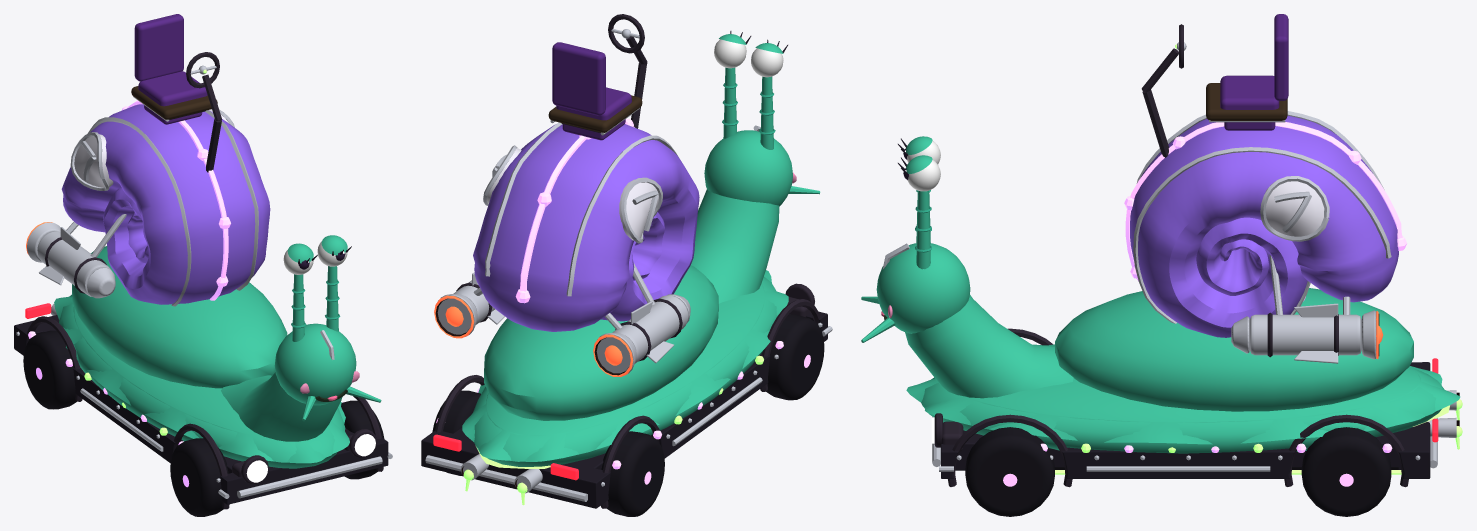
The model's file is turbo_escargot.glb.
The picture shows the model from 3 angles, left to right: view 1: azimuth 30°, elevation 25°; view 2: azimuth 150°, elevation 25°; view 3: azimuth 270°, elevation 25°; orthographic projection. The views are drawn at different scales.
Parts seen in each view (by area): view 1: shell_coil, mantle, foot, deck, head, neck, skirt, wheel_FR_tyre, wheel_RR_tyre, seat_back, rocket_0, seat_cushion (+17 smaller); view 2: shell_coil, mantle, foot, neck, deck, head, skirt, wheel_RR_tyre, wheel_FR_tyre, seat_back, rocket_0, shell_spine (+20 smaller); view 3: shell_coil, mantle, foot, neck, deck, wheel_RL_tyre, wheel_FL_tyre, skirt, head, rocket_1, shell_chrome_1, roundel_1 (+12 smaller).
Boxes of the visible parts, x1,y1,x2,y2 form: shell_coil: (61, 104, 270, 304); mantle: (72, 246, 287, 388); foot: (59, 294, 345, 468); deck: (14, 315, 388, 504); head: (274, 323, 356, 405); neck: (221, 372, 342, 441); skirt: (54, 296, 349, 463); wheel_FR_tyre: (170, 438, 228, 516); wheel_RR_tyre: (23, 330, 76, 409); seat_back: (134, 14, 183, 81); rocket_0: (37, 231, 111, 296); seat_cushion: (138, 71, 207, 106); shell_coil: (473, 124, 699, 331); mantle: (484, 265, 718, 420); foot: (473, 276, 776, 466); neck: (691, 189, 779, 303); deck: (421, 311, 827, 508); head: (704, 130, 792, 206); skirt: (462, 270, 788, 461); wheel_RR_tyre: (601, 431, 664, 516); wheel_FR_tyre: (762, 314, 824, 400); seat_back: (552, 42, 605, 115); rocket_0: (612, 295, 688, 363); shell_spine: (520, 121, 634, 291); shell_coil: (1130, 115, 1398, 337); mantle: (1055, 288, 1413, 411); foot: (921, 344, 1444, 453); neck: (905, 295, 1073, 398); deck: (941, 362, 1430, 478); wheel_RL_tyre: (1301, 427, 1391, 516); wheel_FL_tyre: (965, 427, 1054, 516); skirt: (906, 366, 1460, 444); head: (876, 243, 970, 333); rocket_1: (1249, 314, 1361, 355); shell_chrome_1: (1133, 147, 1391, 323); roundel_1: (1265, 181, 1327, 236).
Size of the model in its own units: 2.49 by 4.81 by 5.9.
